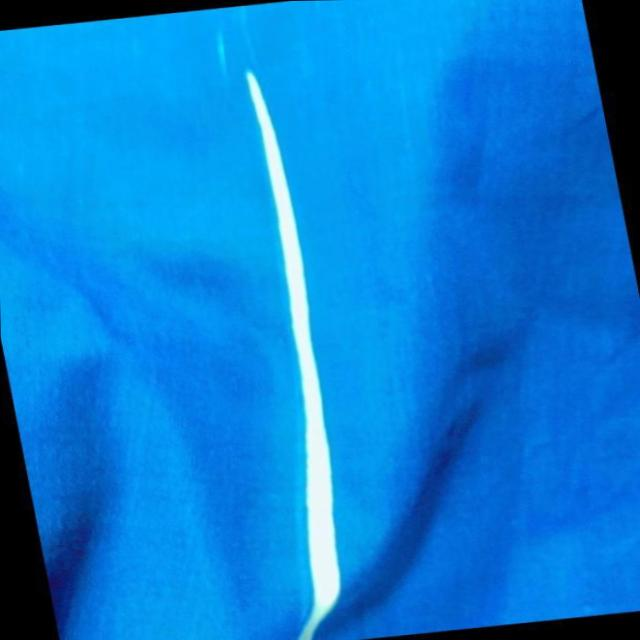selvet: (168, 59, 387, 640), (200, 15, 243, 84)
